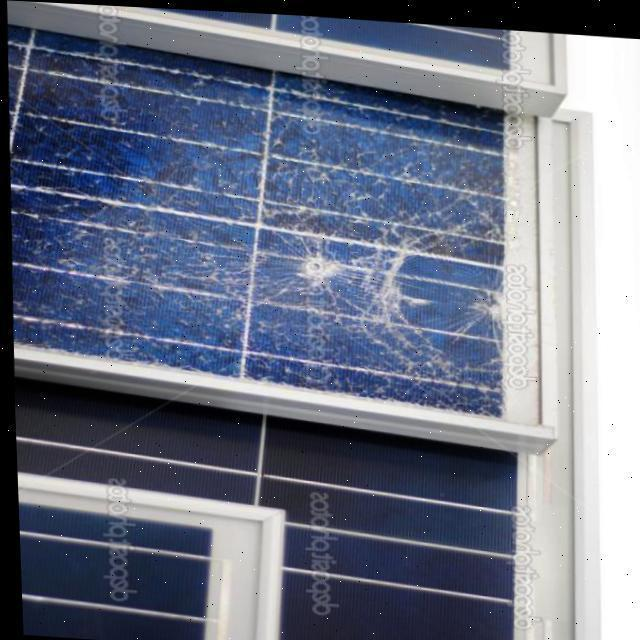Anomaly Solar Panel: (6, 24, 522, 418)
Normal Solar Panel: (11, 377, 513, 640), (15, 503, 207, 640), (136, 6, 509, 63)
Structural Damage: (192, 178, 454, 376), (456, 258, 504, 348)
